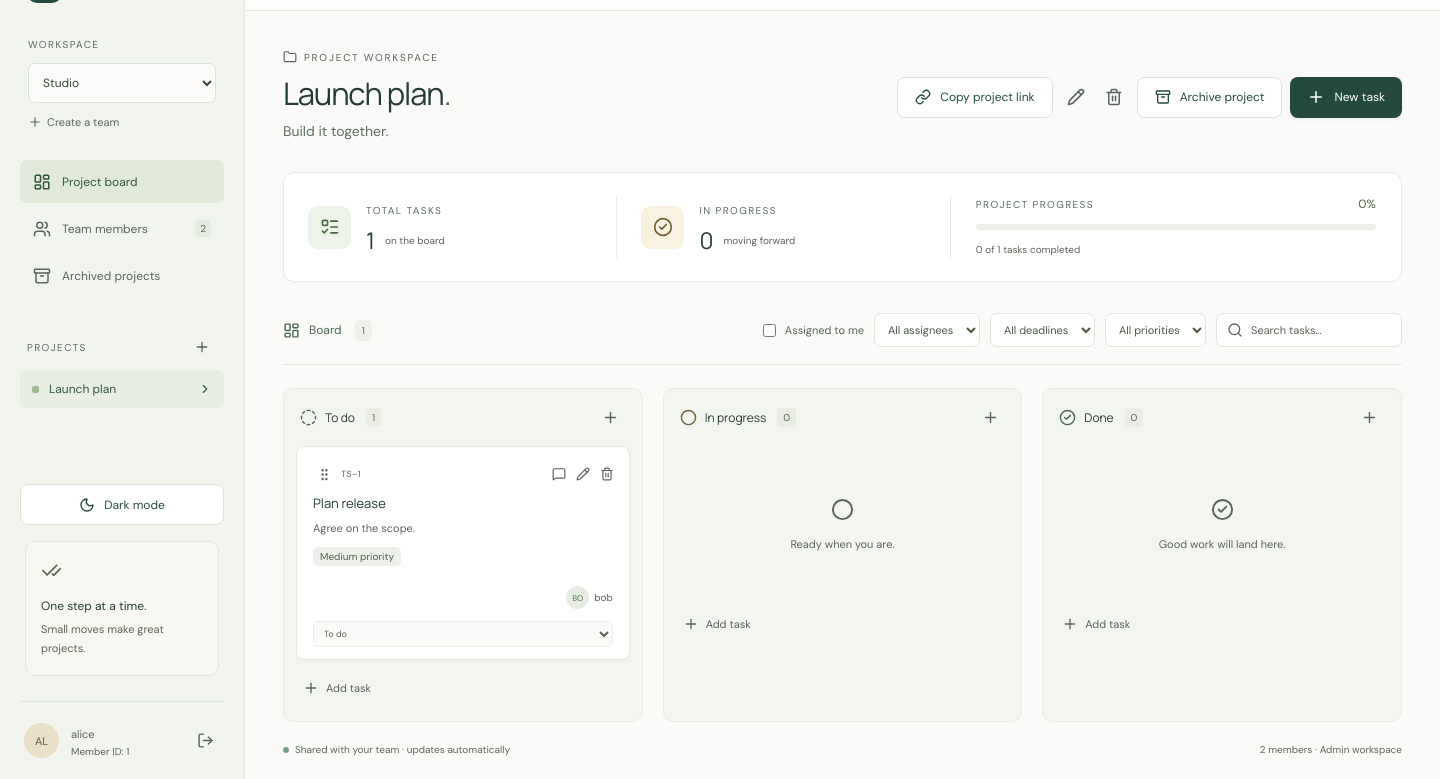
Test: logs out and clears the tab session
(page scrolled)
Expected: the heading "Launch plan." is shown, [283, 73, 450, 113]
Click the button named "Sign out": click(205, 741) [190, 726, 220, 756]
(page scrolled)
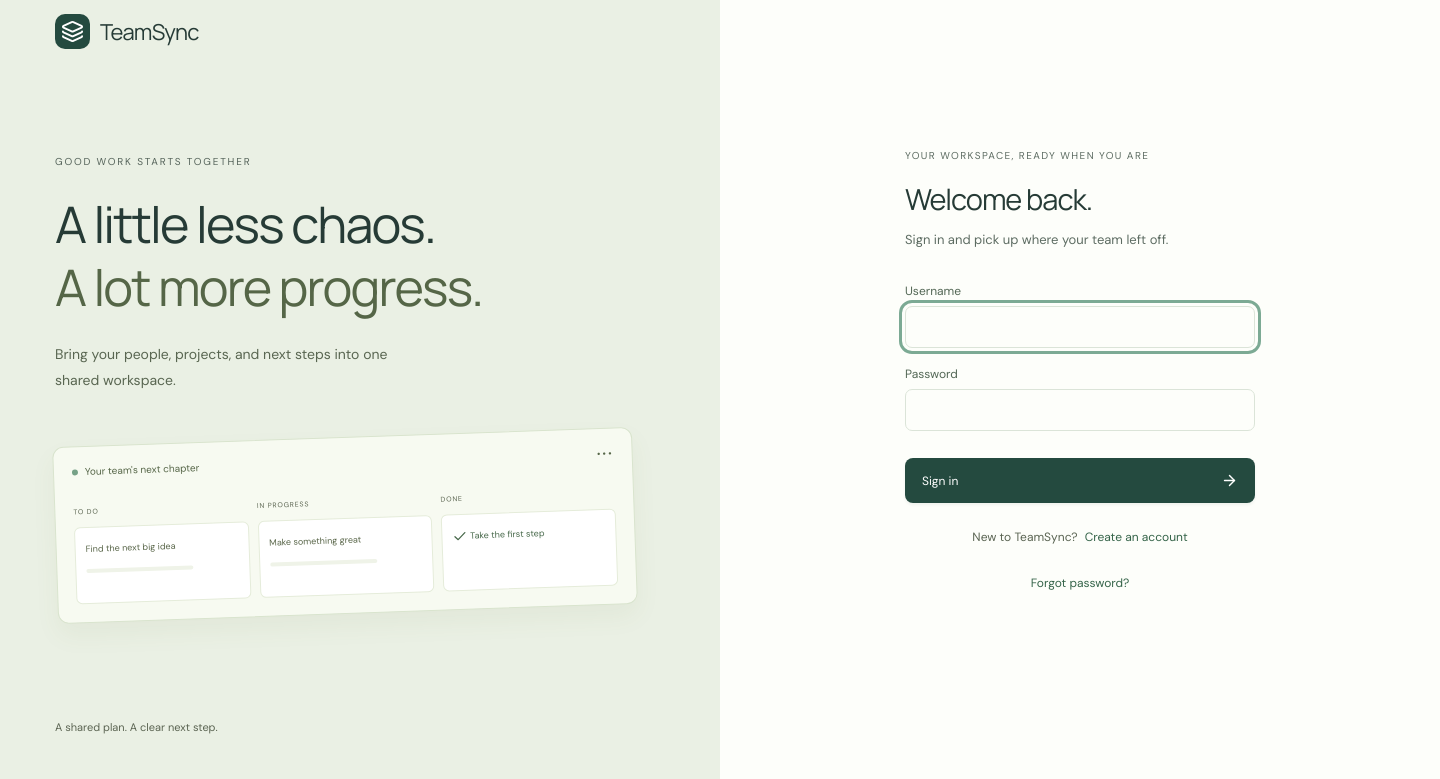
Expected: the heading "Welcome back." is shown, [905, 179, 1092, 219]
